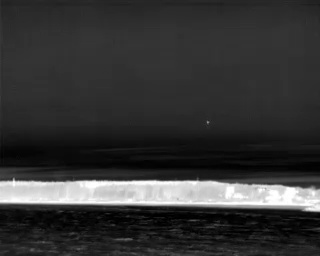HELICOPTER: (204, 118, 212, 129)
